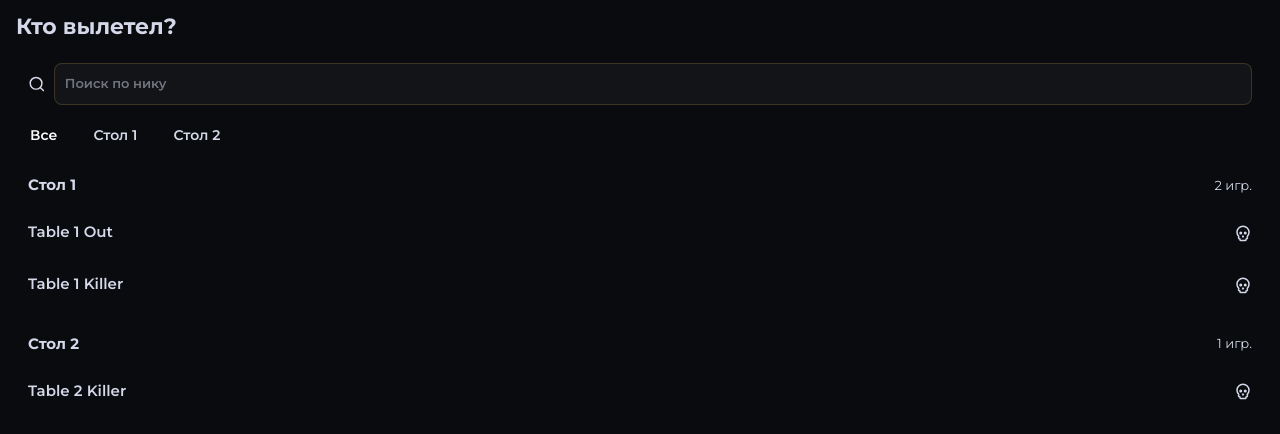
Test case: TMAEliminationsPage › filters eliminations and bounty killers by selected table
Check: the button "Table 1 Out" is shown, box [16,206,1264,258]
Check: the button "Table 2 Killer" is shown, box [16,365,1264,417]
Click the button "Стол 1".
click(115, 135)  # box [79,118,151,152]
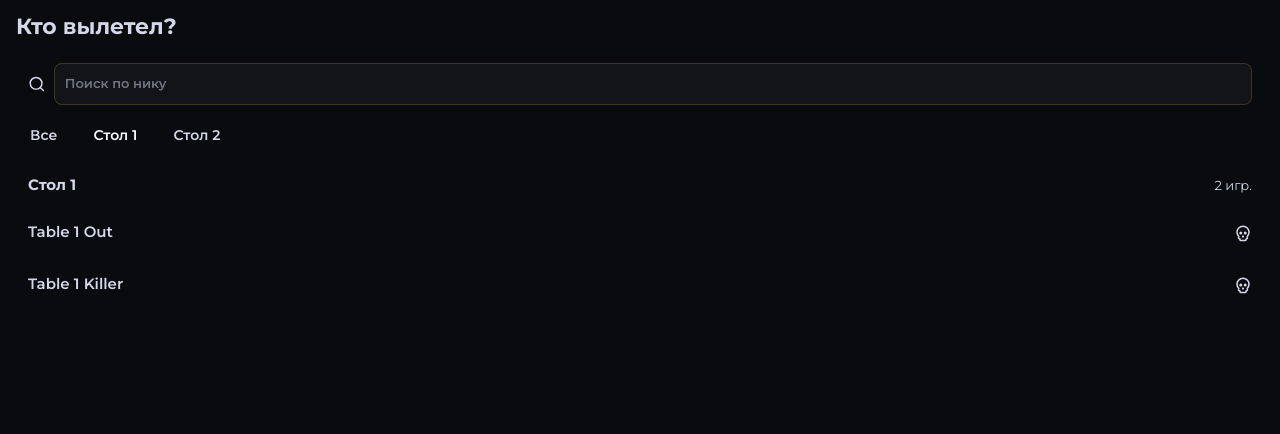
Check: the button "Table 2 Killer" is gone
Click the button "Table 1 Out".
click(70, 232)  # box [16,206,1264,258]
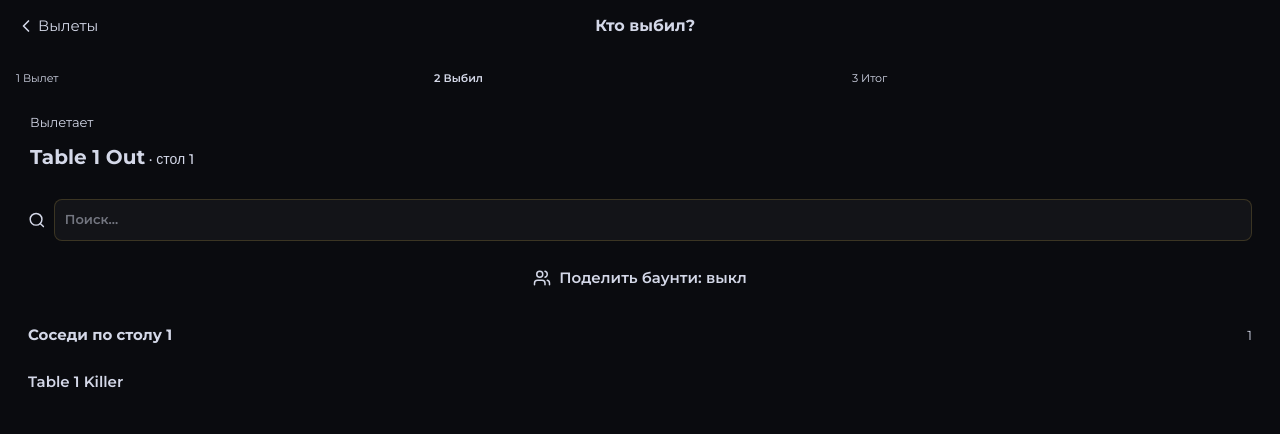
Check: the button "Table 1 Killer" is shown, box [16,356,1264,408]
Check: the heading "Кто выбил?" is shown, box [595,16,695,35]
